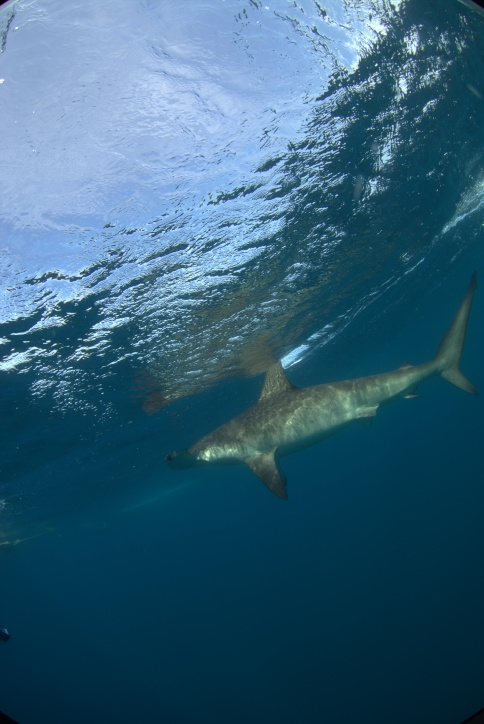Hammer: (135, 280, 484, 514)
